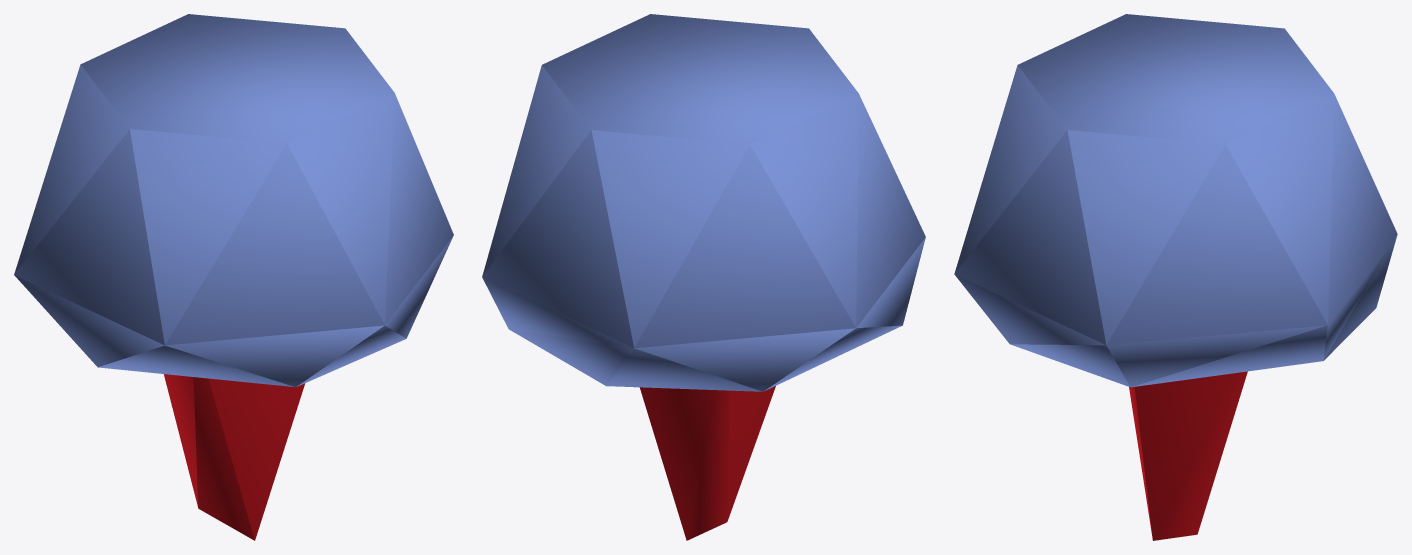
Rendered from PataI.obj.
3 renders of one model, left to right at view 1: azimuth 30°, elevation 25°; view 2: azimuth 150°, elevation 25°; view 3: azimuth 270°, elevation 25°, orthographic.
Visible parts, largest first — view 1: PataI; view 2: PataI; view 3: PataI.
Part boxes in pixels (x1,y1,x2,y2): PataI: [14, 14, 453, 540]; PataI: [482, 14, 925, 540]; PataI: [954, 14, 1397, 540].
Bounding box in the file's own units: 5.4 × 6.34 × 5.55.
2 materials, 2 textured.
